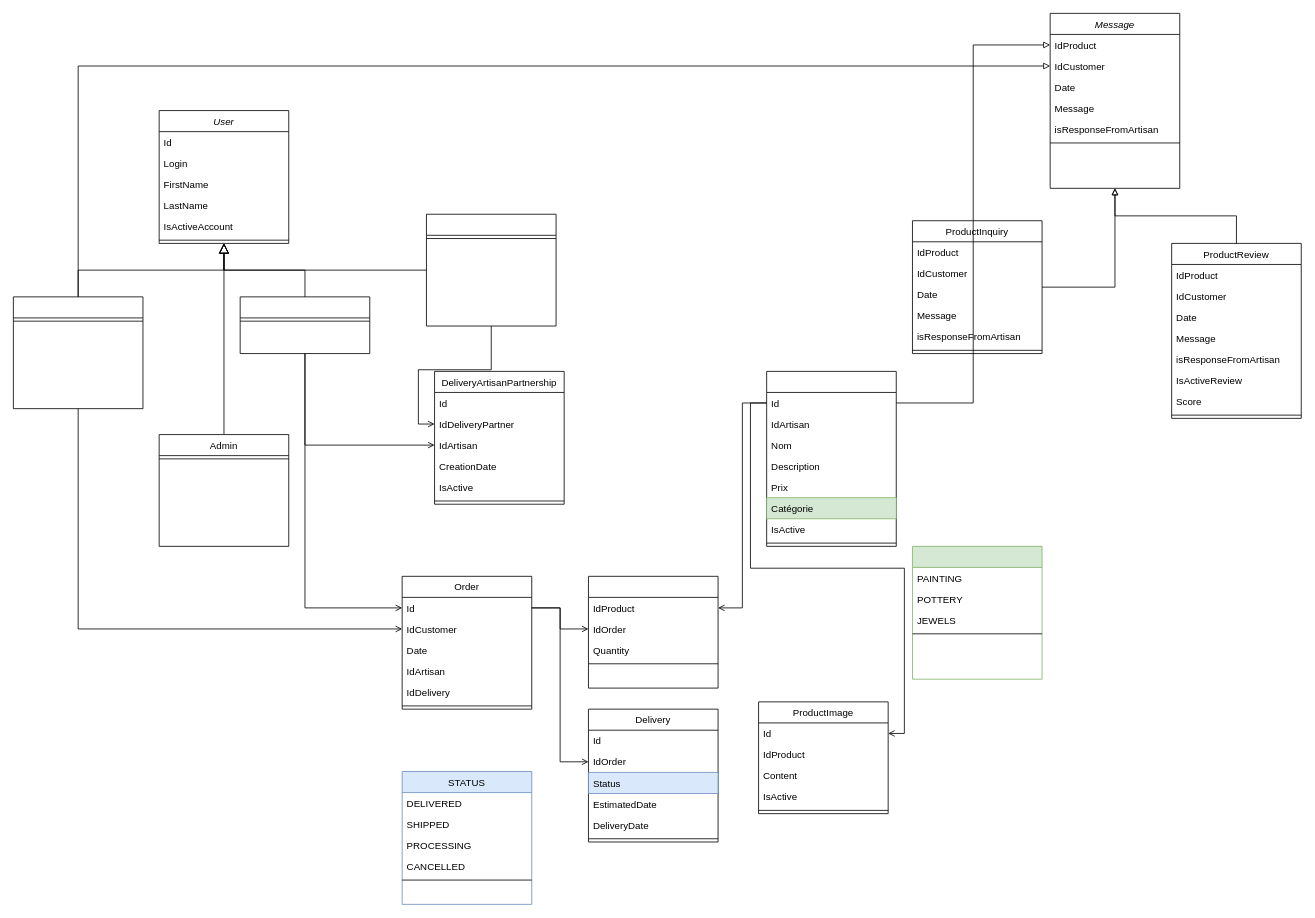
This 1315x918 diagram has some shape labels left out. Here are the shapes that lost their labels. From the top down, the box of each, then its label:
(426, 213, 556, 326): DeliveryPartner
(239, 296, 370, 354): Artisan
(13, 296, 143, 409): Customer
(766, 371, 896, 546): Product
(588, 576, 718, 688): ItemOrder
(912, 546, 1042, 679): CATEGORIES
